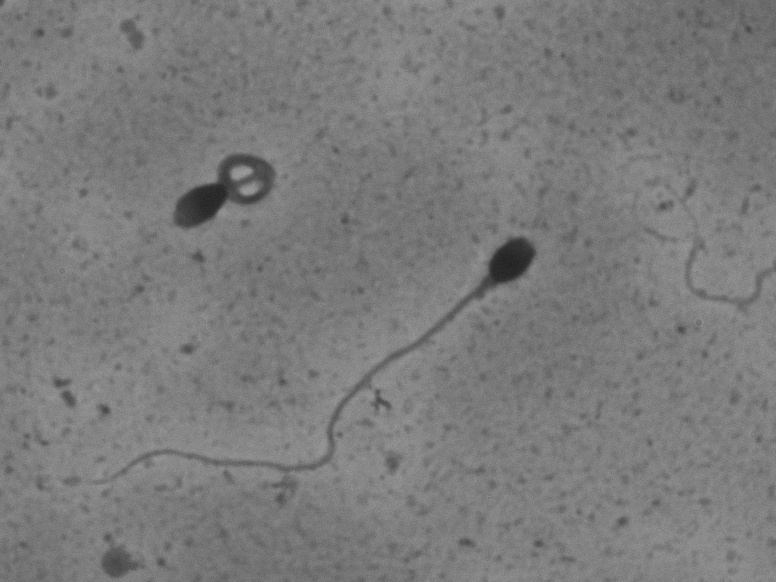Abnormal: (123, 110, 292, 242)
Normal: (57, 222, 574, 505)
